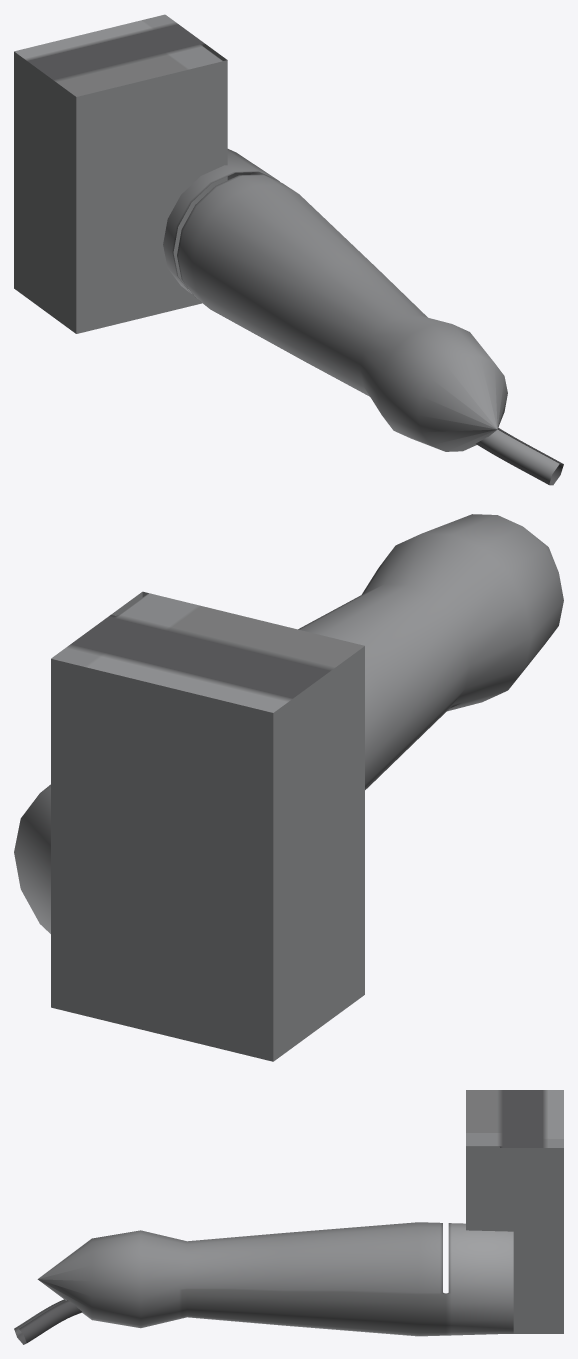
The picture shows the model from 3 angles, top to bottom: view 1: azimuth 30°, elevation 25°; view 2: azimuth 150°, elevation 25°; view 3: azimuth 270°, elevation 25°; orthographic projection. The views are drawn at different scales.
Bounding box in the file's own units: 0.7598 × 0.8148 × 2.18.
